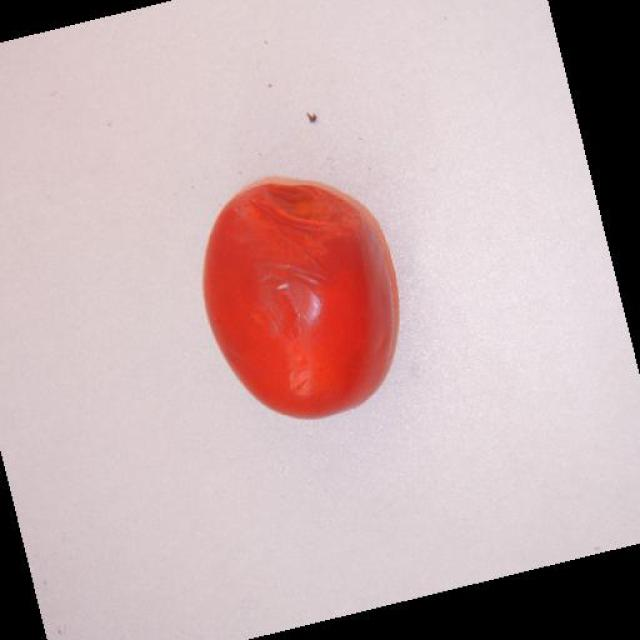Stale_tomato: (202, 178, 402, 422)
